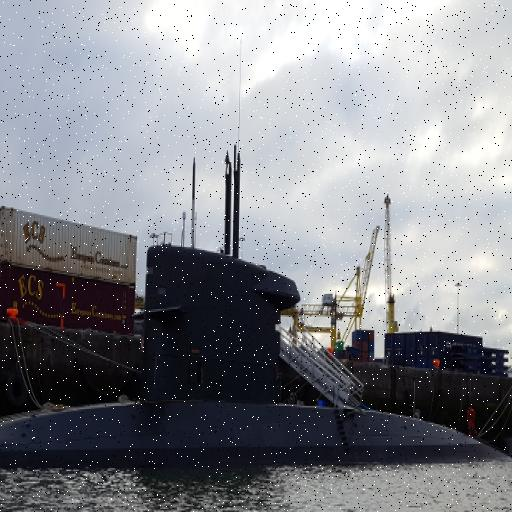submarine: (1, 140, 512, 466)
